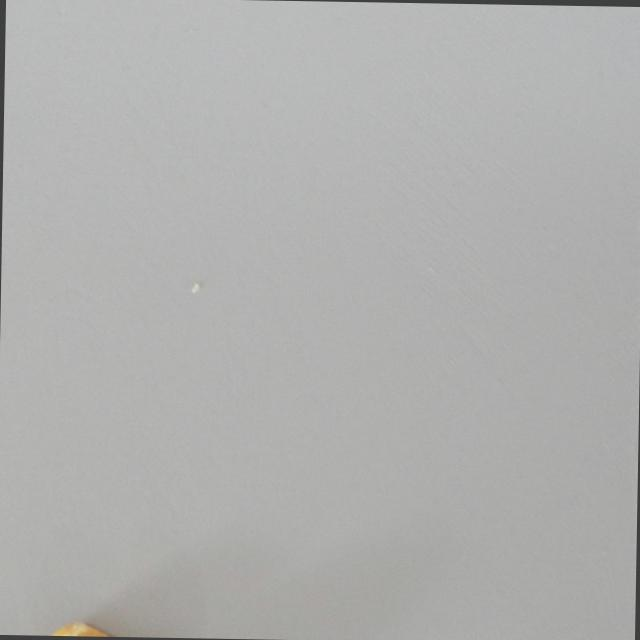pelicula: (31, 618, 140, 637)
